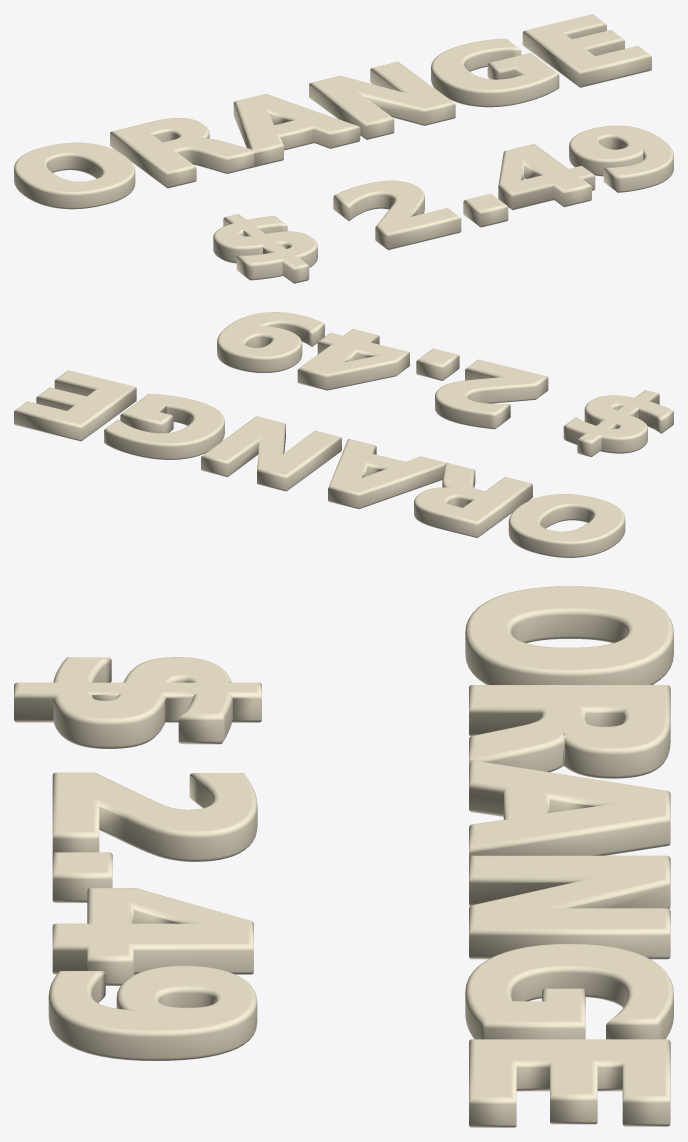
File: SM_EG_Produce_price_3e3a44022e.fbx
3 renders of one model, top to bottom at view 1: azimuth 30°, elevation 25°; view 2: azimuth 150°, elevation 25°; view 3: azimuth 270°, elevation 25°, orthographic. The views are drawn at different scales.
Parts seen in each view (by area): view 1: SM_EG_Produce_price_3e3a44022e; view 2: SM_EG_Produce_price_3e3a44022e; view 3: SM_EG_Produce_price_3e3a44022e.
Part boxes in pixels (left/top/right/bottom): SM_EG_Produce_price_3e3a44022e: left=14, top=14, right=673, bottom=283; SM_EG_Produce_price_3e3a44022e: left=14, top=312, right=673, bottom=557; SM_EG_Produce_price_3e3a44022e: left=14, top=586, right=673, bottom=1127.
Bounding box in the file's own units: 16.09 × 8.72 × 0.44.
